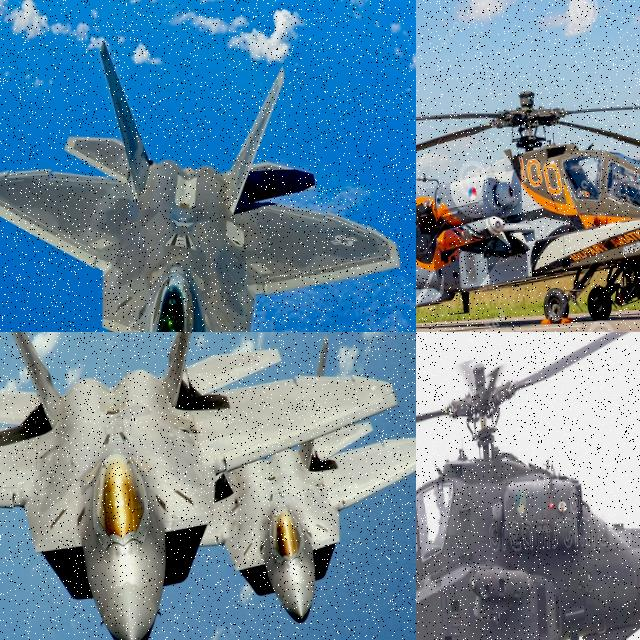Apache: (416, 332, 640, 640), (416, 63, 640, 332)
F22: (0, 21, 412, 332), (0, 332, 409, 640), (149, 417, 416, 631)
